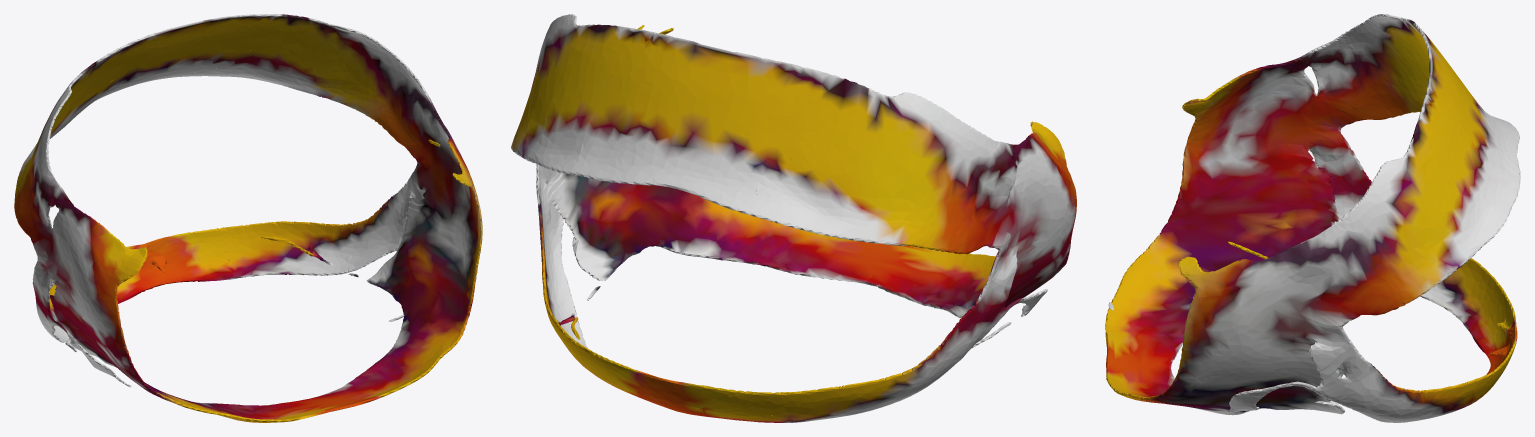
Rendered from torc.glb.
The picture shows the model from 3 angles, left to right: view 1: azimuth 30°, elevation 25°; view 2: azimuth 150°, elevation 25°; view 3: azimuth 270°, elevation 25°; orthographic projection. The views are drawn at different scales.
Visible parts, largest first — view 1: geometry_0; view 2: geometry_0; view 3: geometry_0.
Boxes of the visible parts, left/top/right/bottom form: geometry_0: left=14, top=14, right=482, bottom=422; geometry_0: left=511, top=14, right=1076, bottom=422; geometry_0: left=1105, top=14, right=1520, bottom=422.
Bounding box in the file's own units: 0.6875 × 0.4885 × 0.6033.
